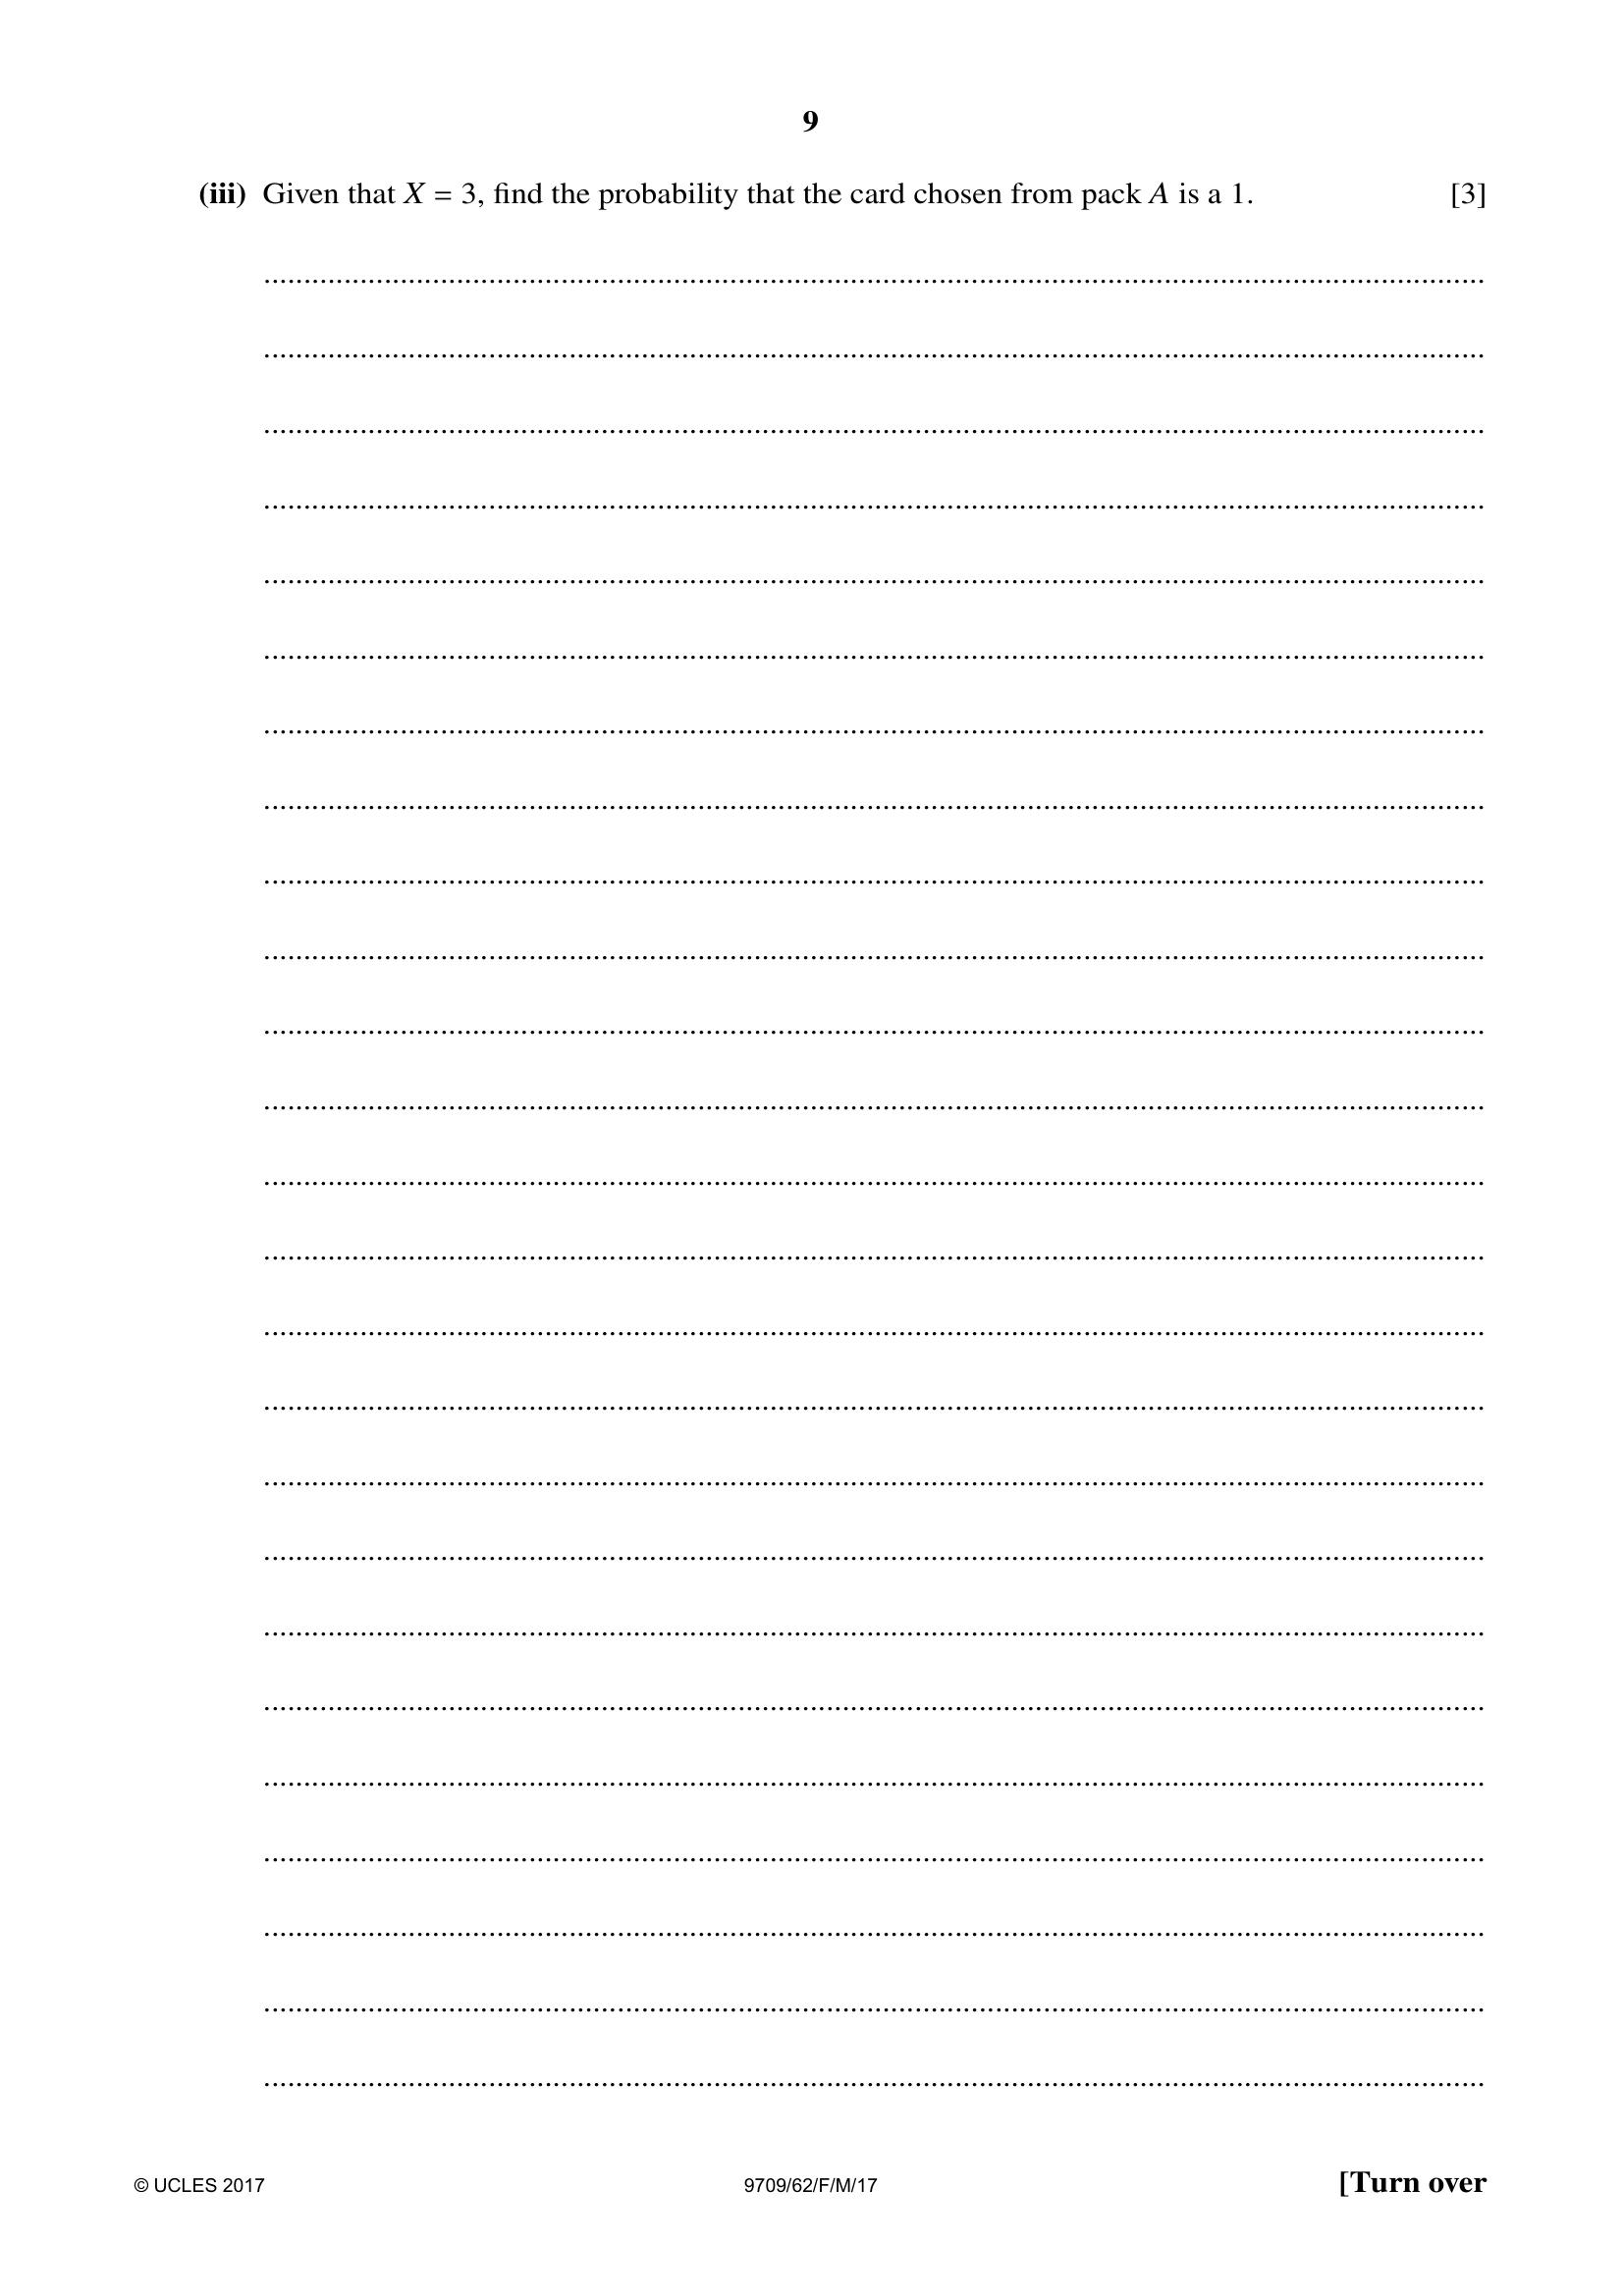continued question: (7, 149, 1619, 2117)
